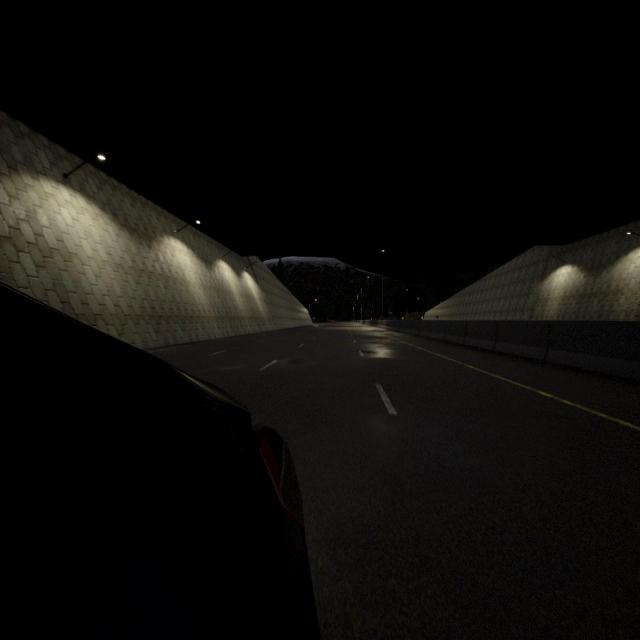Traffic_Signs: (421, 316, 424, 320), (402, 316, 404, 320), (313, 317, 315, 320)
Vehicle: (0, 280, 309, 640)
